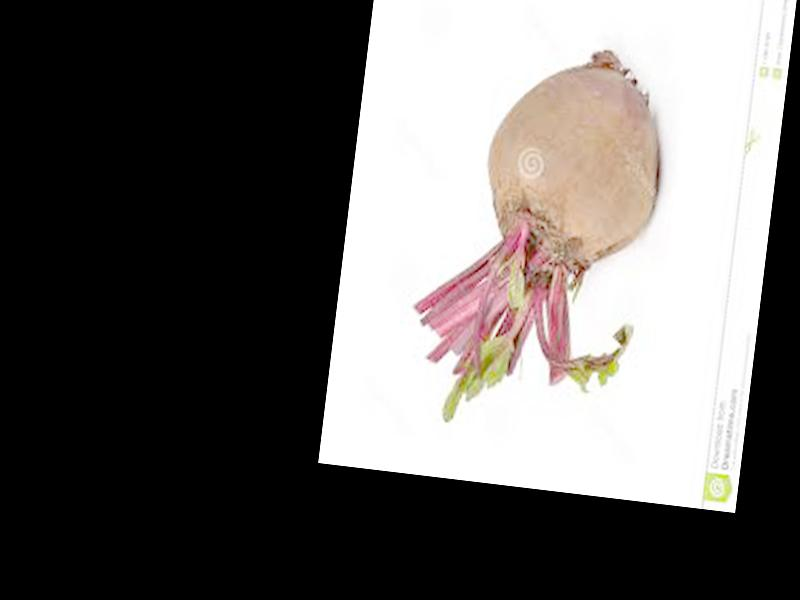Beet: (403, 30, 670, 441)
